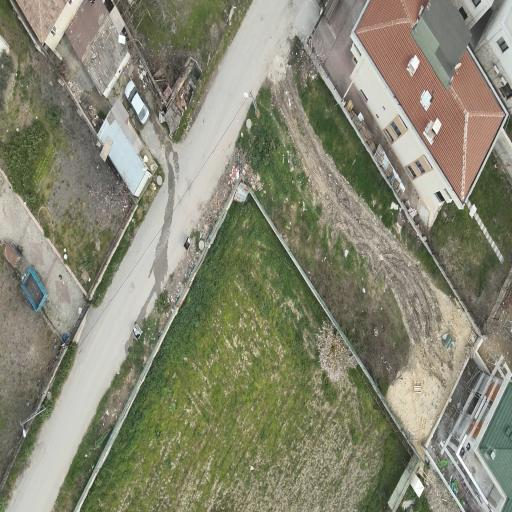car: (124, 81, 148, 125)
